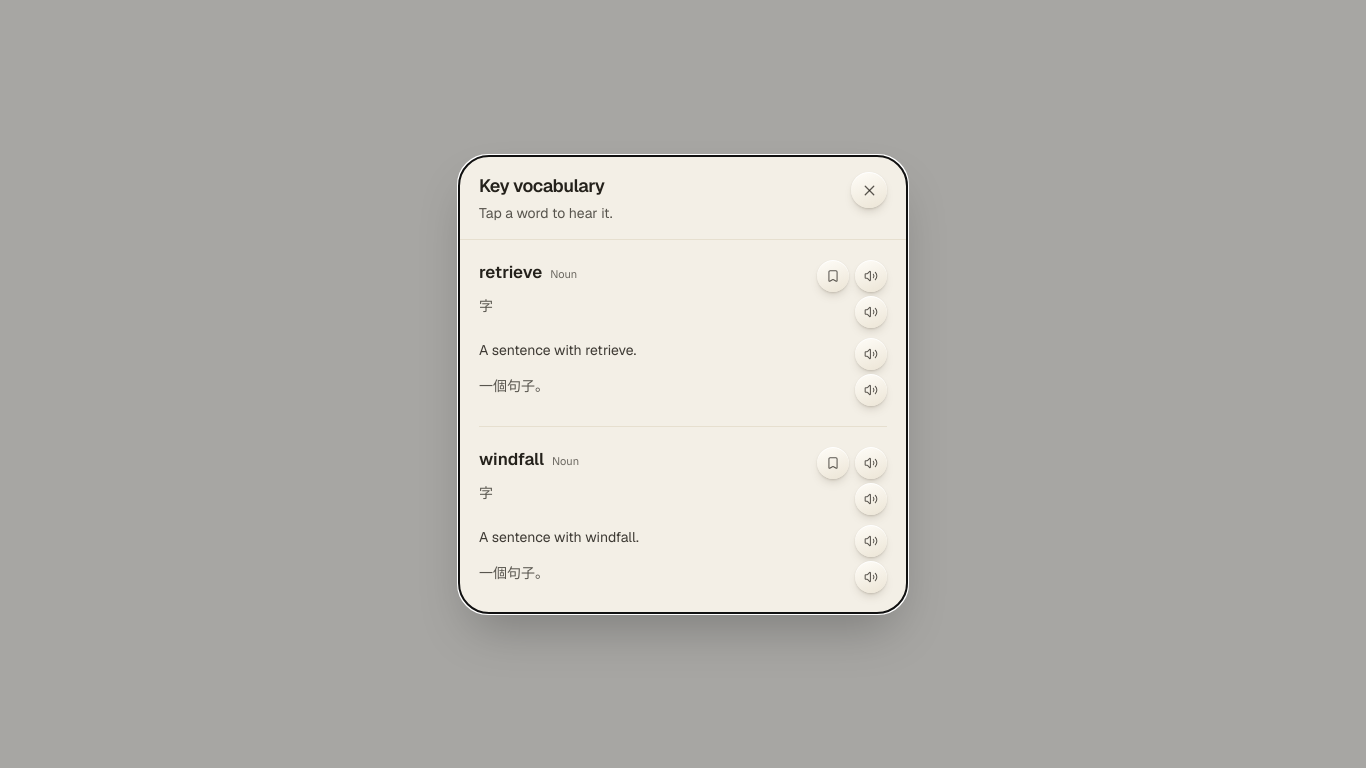
Test: a word the reader does not have › saves and shows as saved
This screenshot has width=1366, height=768.
Click the button named "Add windfall to Vocabulary" at coordinates (833, 462), box [817, 446, 849, 478]
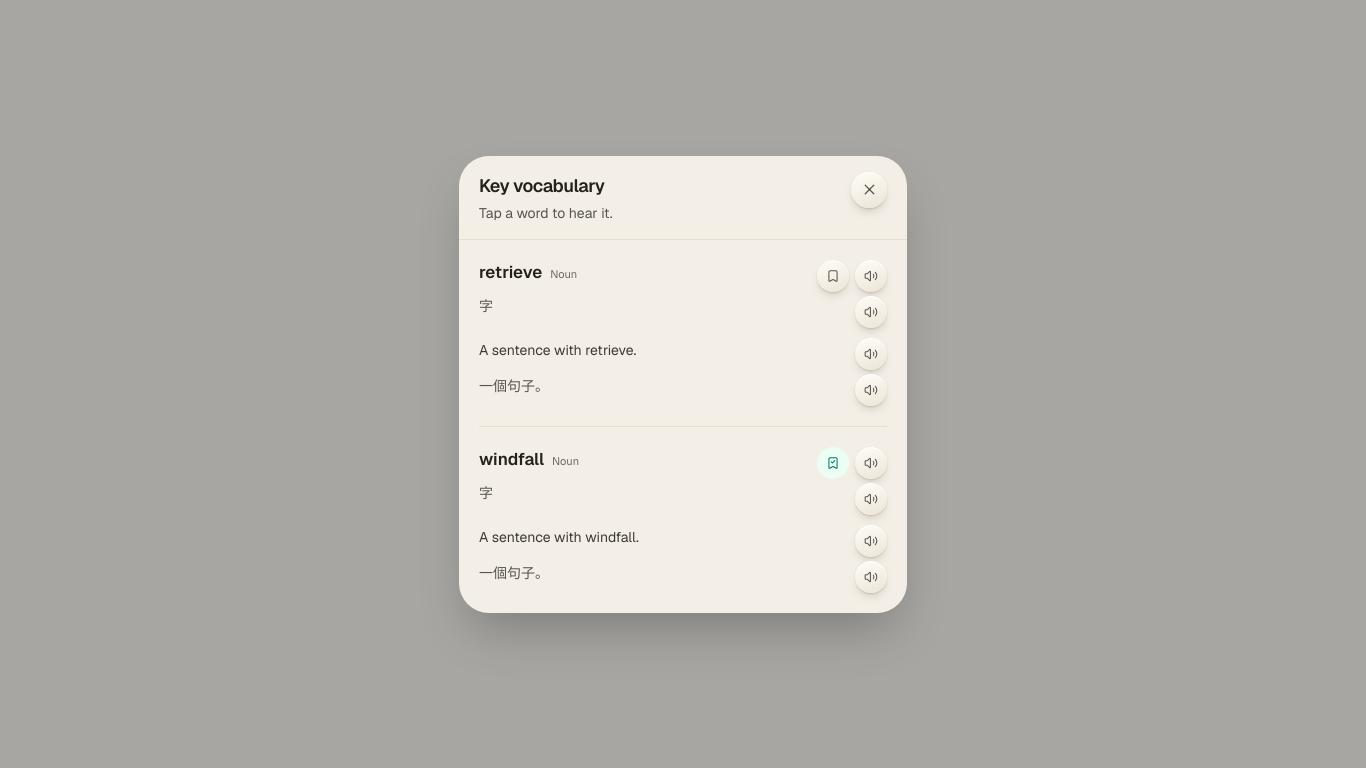
Check: the button named "Added" is disabled, box [817, 446, 849, 478]
